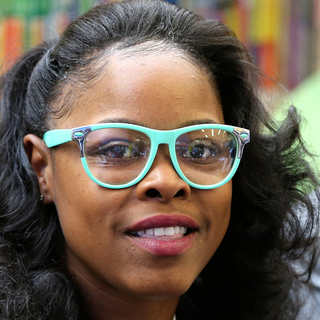eye: (92, 141, 136, 164), (185, 142, 225, 166)
